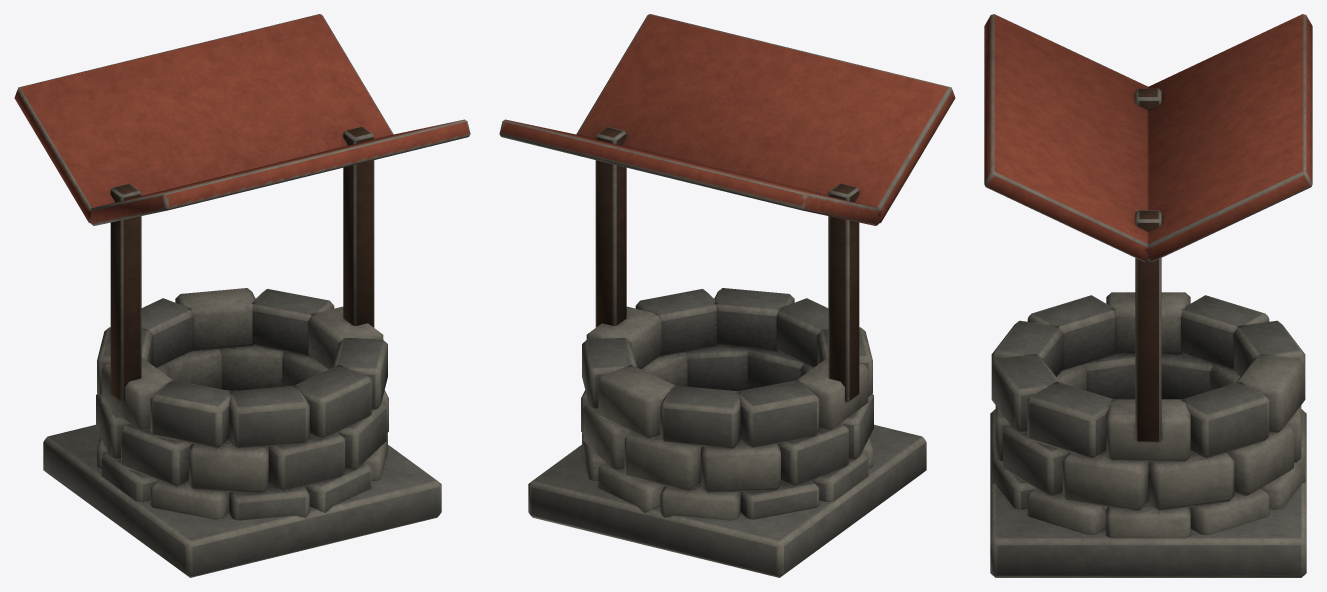
File: stone_well.glb
3 views of the same model, side by side, from view 1: azimuth 30°, elevation 25°; view 2: azimuth 150°, elevation 25°; view 3: azimuth 270°, elevation 25° (orthographic). The views are drawn at different scales.
Visible parts, largest first — view 1: StoneWell; view 2: StoneWell; view 3: StoneWell.
Boxes of the visible parts, left/top/right/bottom form: StoneWell: left=14, top=14, right=470, bottom=577; StoneWell: left=499, top=14, right=955, bottom=577; StoneWell: left=984, top=14, right=1312, bottom=577.
Bounding box in the file's own units: 2.15 × 2.64 × 1.87.
Materials: 1 (1 with a texture image).
